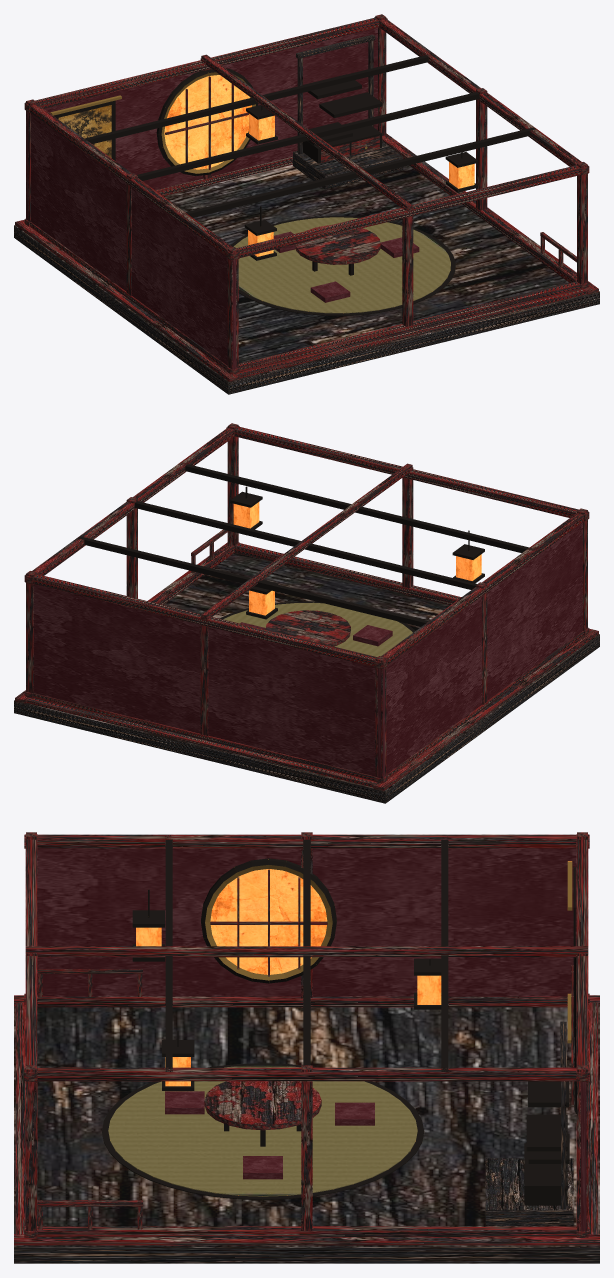
The model's file is nyanisyarud-hyakken-zashiki-moon.glb.
3 renders of one model, top to bottom at view 1: azimuth 30°, elevation 25°; view 2: azimuth 150°, elevation 25°; view 3: azimuth 270°, elevation 25°, orthographic. The views are drawn at different scales.
Visible parts, largest first — view 1: Floating_Crimson_Moon_Zashiki_10m; view 2: Floating_Crimson_Moon_Zashiki_10m; view 3: Floating_Crimson_Moon_Zashiki_10m.
Part boxes in pixels (bbox=[...]): Floating_Crimson_Moon_Zashiki_10m: bbox=[14, 14, 599, 394]; Floating_Crimson_Moon_Zashiki_10m: bbox=[14, 423, 599, 803]; Floating_Crimson_Moon_Zashiki_10m: bbox=[14, 832, 599, 1263].
Size of the model in its own units: 10 by 3.61 by 10.
1 material, 1 textured.
